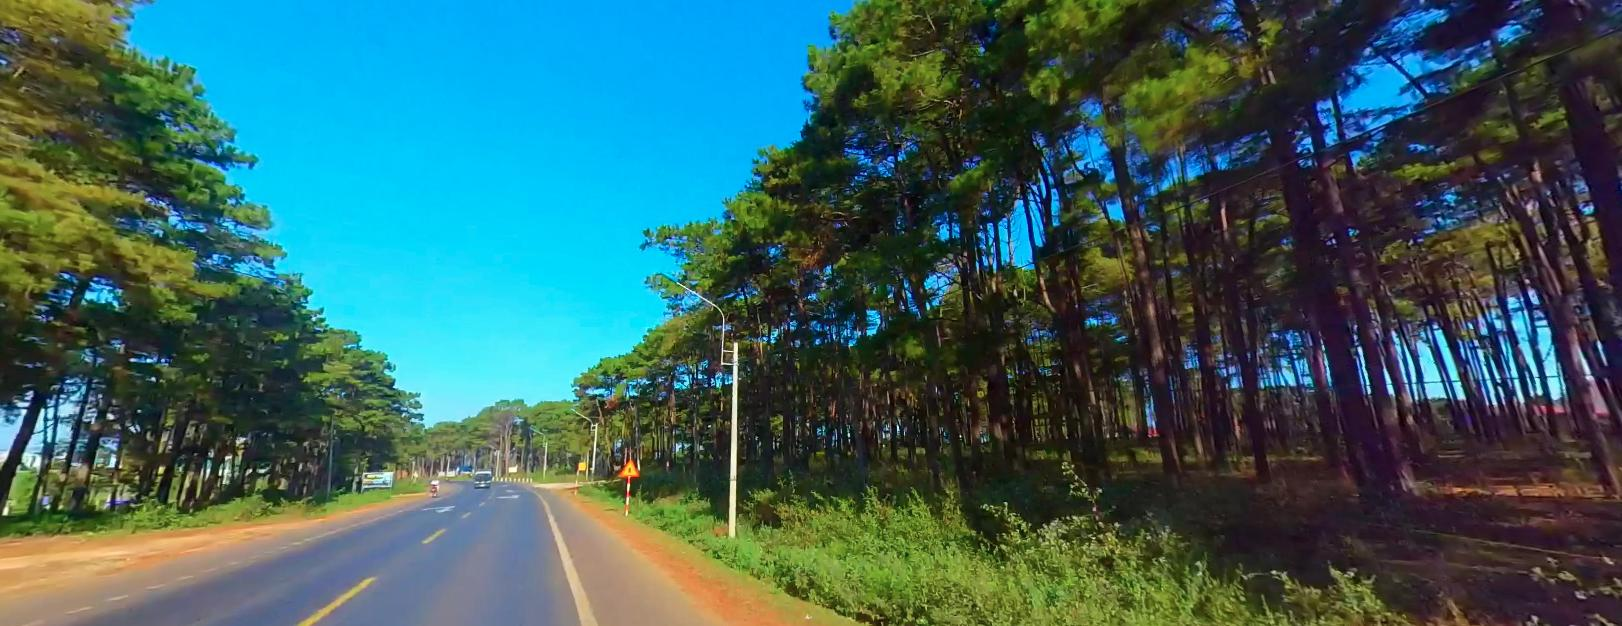Nguy hiem: (619, 458, 640, 476)
